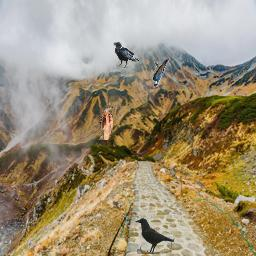Crow: (135, 218, 175, 254), (113, 42, 139, 68)
Cuckoo: (98, 105, 113, 140)
Swallow: (152, 57, 170, 88)
